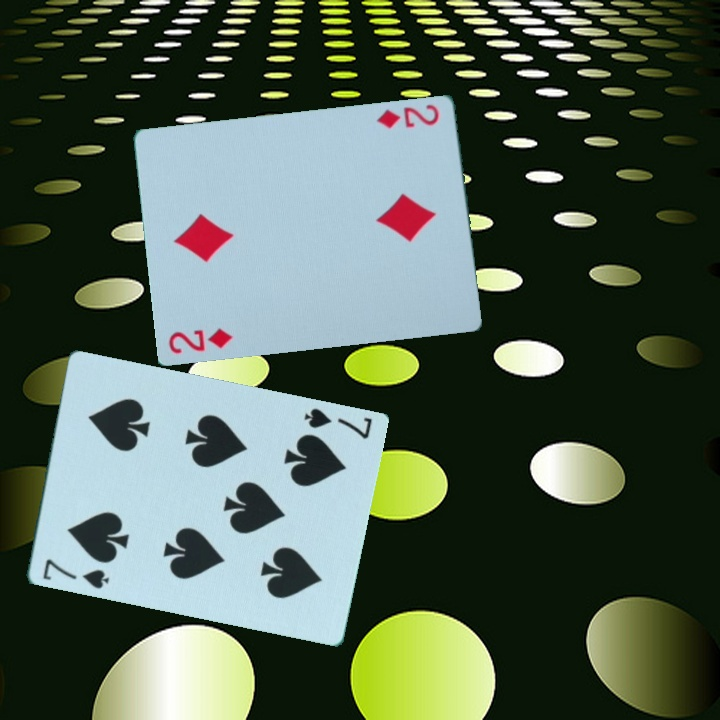2d: (165, 324, 236, 356), (373, 100, 443, 131)
7s: (38, 555, 112, 593), (299, 405, 375, 442)
